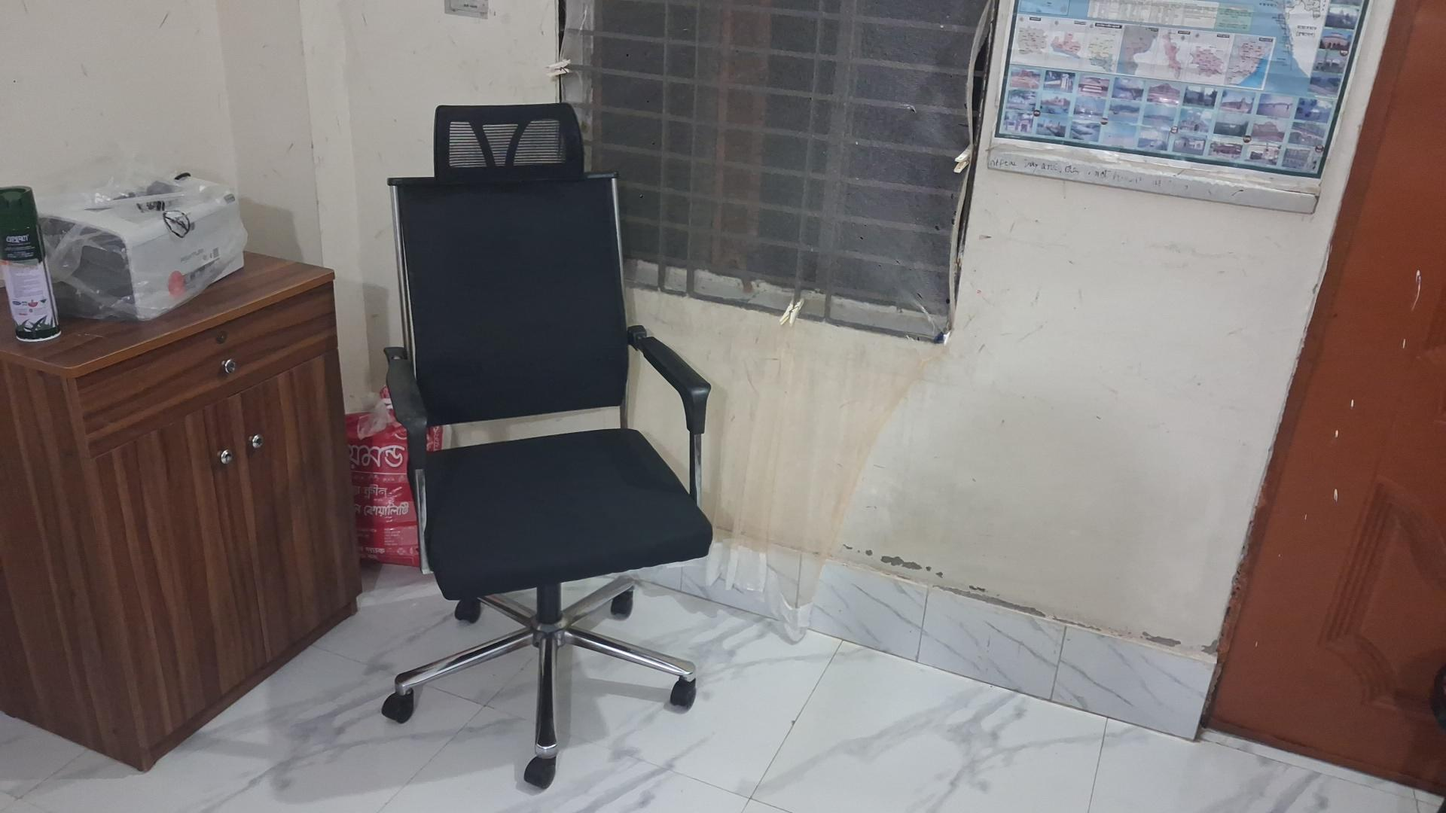Bottle: (0, 184, 64, 333)
Chair: (381, 153, 714, 789)
Window: (548, 0, 992, 339)
